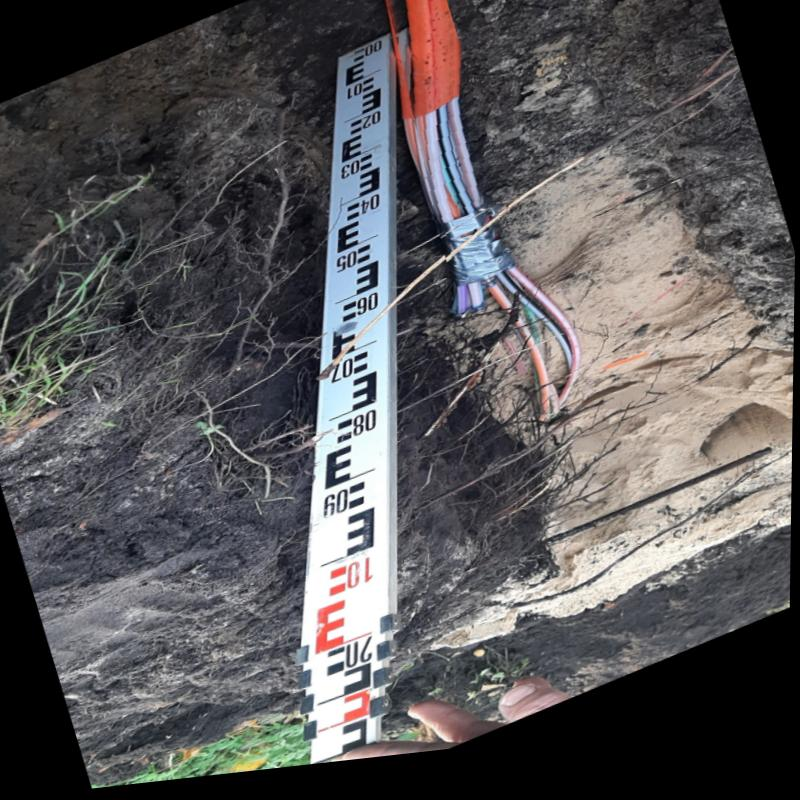Orang-Speednetrohrchen: (400, 0, 496, 275)
